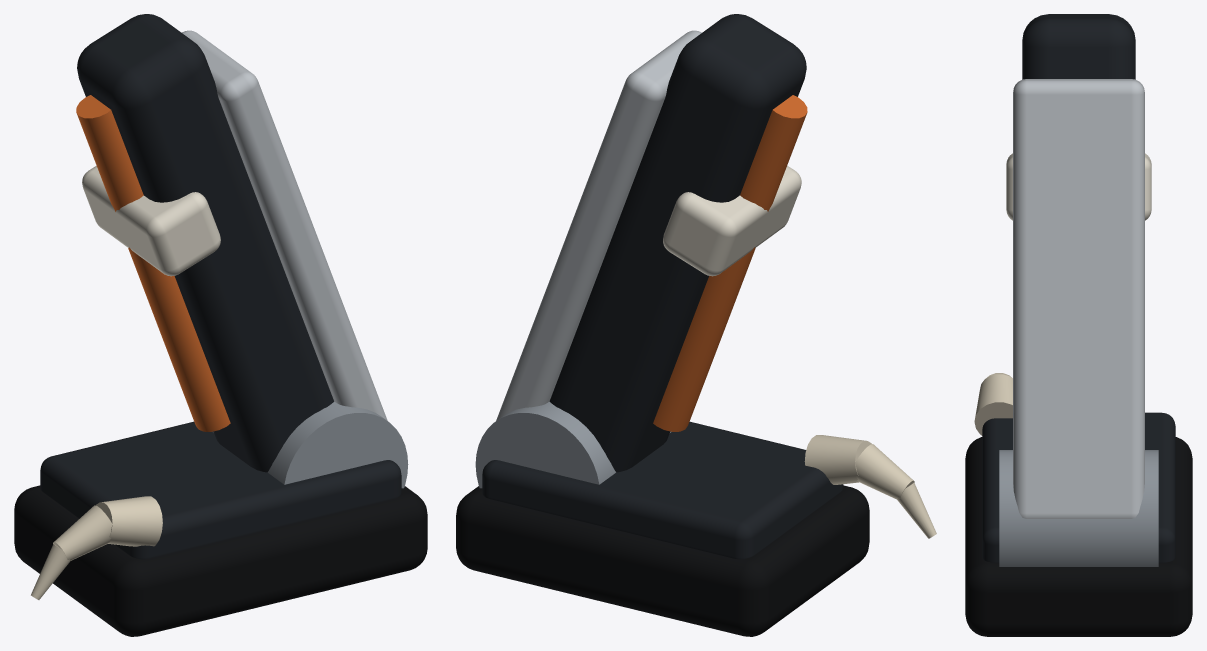
The model's file is right_foot_link.glb.
The picture shows the model from 3 angles, left to right: view 1: azimuth 30°, elevation 25°; view 2: azimuth 150°, elevation 25°; view 3: azimuth 270°, elevation 25°; orthographic projection. The views are drawn at different scales.
Visible parts, largest first — view 1: right_foot_link; view 2: right_foot_link; view 3: right_foot_link.
Part boxes in pixels (left/top/right/bottom): right_foot_link: left=14, top=14, right=427, bottom=636; right_foot_link: left=456, top=14, right=936, bottom=636; right_foot_link: left=965, top=14, right=1192, bottom=636.
Size of the model in its own units: 0.1865 by 0.2548 by 0.1.
